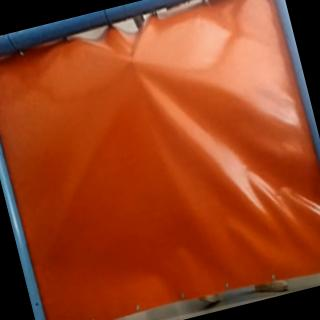Hit-hRxx: (124, 52, 144, 69)
